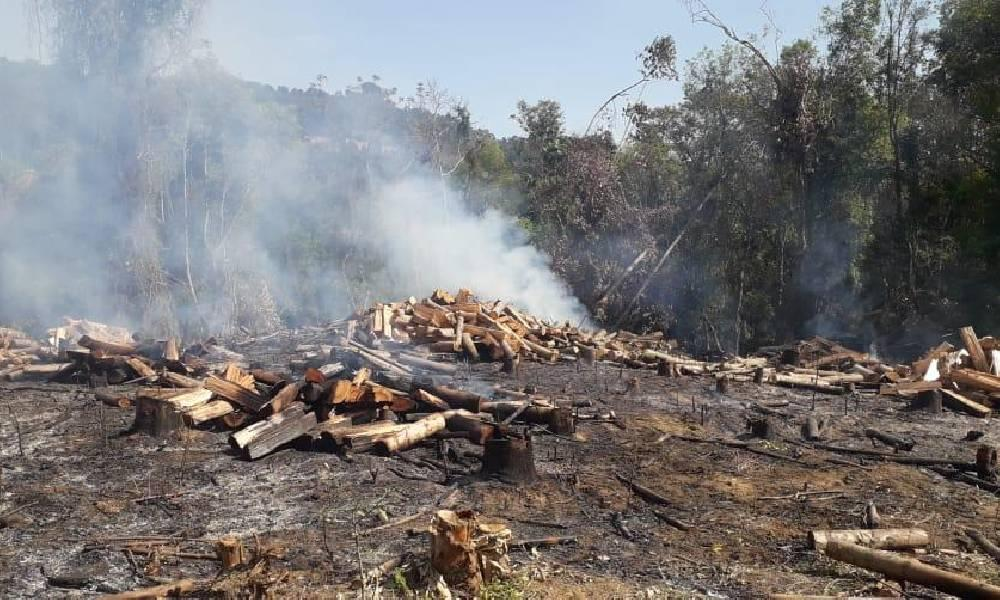smoke: (0, 211, 103, 319), (384, 207, 501, 290)
